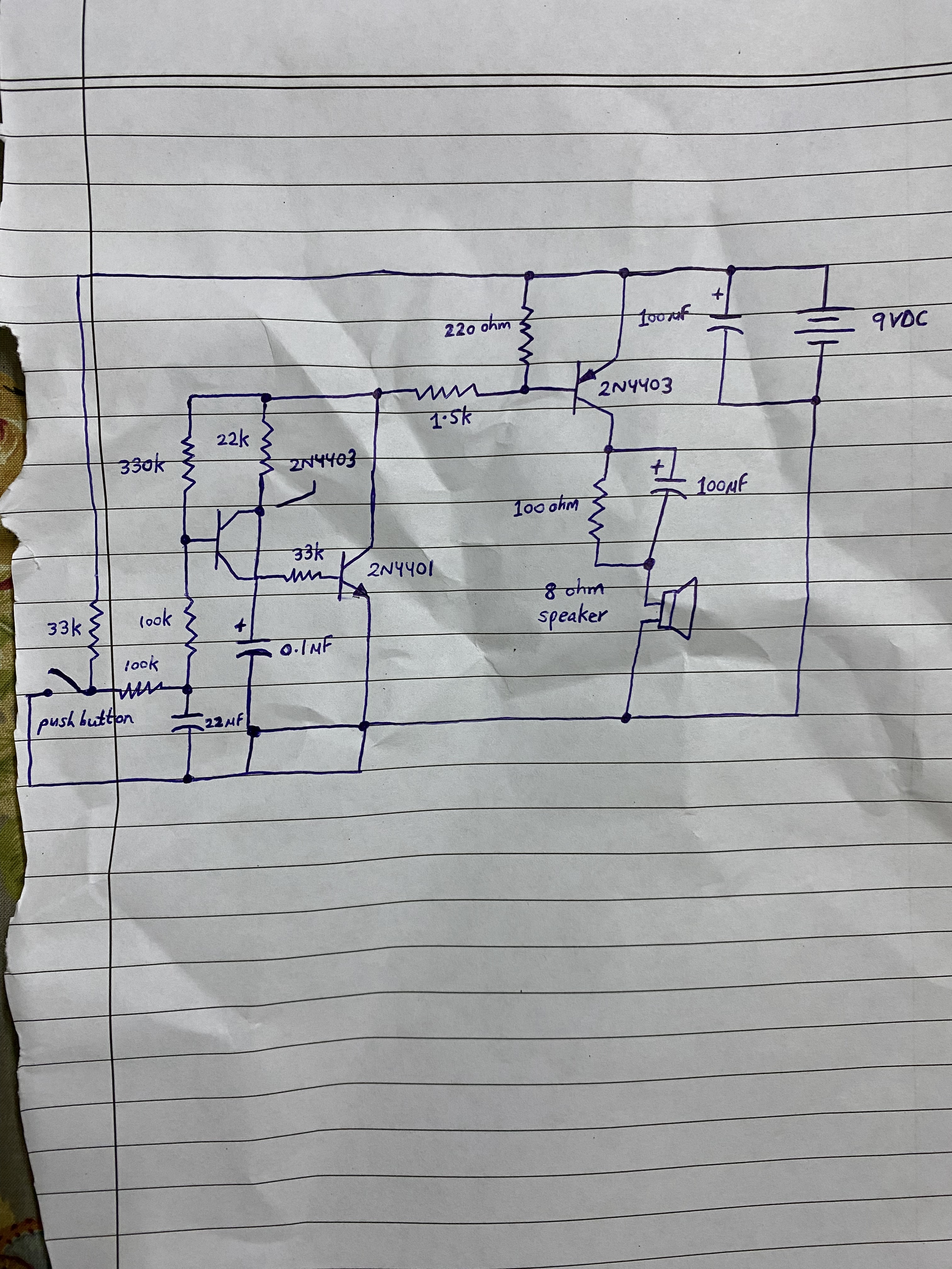capacitor.polarized: (706, 286, 748, 336), (233, 617, 274, 660), (649, 458, 690, 500)
capacitor.unpolarized: (169, 711, 205, 734)
crossover: (249, 572, 262, 584)
junction: (245, 723, 263, 740), (807, 392, 823, 409), (516, 381, 533, 397), (723, 262, 739, 278), (520, 267, 536, 283), (370, 385, 386, 401), (179, 771, 195, 787), (257, 389, 274, 404), (640, 556, 656, 571), (180, 681, 195, 697), (616, 266, 632, 281), (618, 710, 634, 725), (183, 390, 198, 406), (178, 532, 193, 547), (252, 502, 267, 517), (356, 718, 371, 733), (601, 443, 616, 457), (789, 708, 803, 722), (240, 766, 254, 780), (820, 259, 834, 272), (352, 764, 365, 778), (84, 684, 98, 697), (669, 443, 682, 455), (590, 558, 602, 571), (640, 599, 653, 611), (714, 397, 726, 409), (74, 270, 85, 283), (636, 617, 647, 629), (24, 691, 33, 700), (26, 781, 34, 790)
resistor: (411, 379, 481, 404), (585, 475, 610, 542), (177, 430, 199, 494), (514, 306, 537, 365), (180, 597, 201, 659), (256, 419, 278, 478), (86, 599, 105, 662), (119, 679, 162, 701), (285, 567, 322, 584)
speaker: (654, 573, 702, 644)
switch: (42, 667, 82, 698)
text: (37, 705, 136, 734), (594, 374, 674, 398), (537, 603, 609, 629), (442, 314, 516, 339), (365, 556, 436, 582), (287, 448, 358, 474), (513, 493, 580, 518), (868, 307, 932, 332), (544, 576, 605, 601), (637, 302, 693, 328), (696, 472, 750, 496), (279, 634, 335, 657), (115, 453, 168, 477), (429, 406, 475, 430), (45, 616, 86, 639), (214, 427, 251, 449), (136, 609, 173, 630), (291, 541, 326, 562), (123, 656, 162, 674), (205, 712, 244, 729)
transistor.bjt: (571, 355, 620, 418), (336, 544, 375, 604), (213, 508, 243, 582)
voltage.battery: (792, 304, 858, 347)
